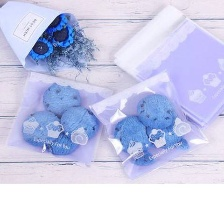snack: (82, 64, 213, 182), (0, 67, 118, 171)
